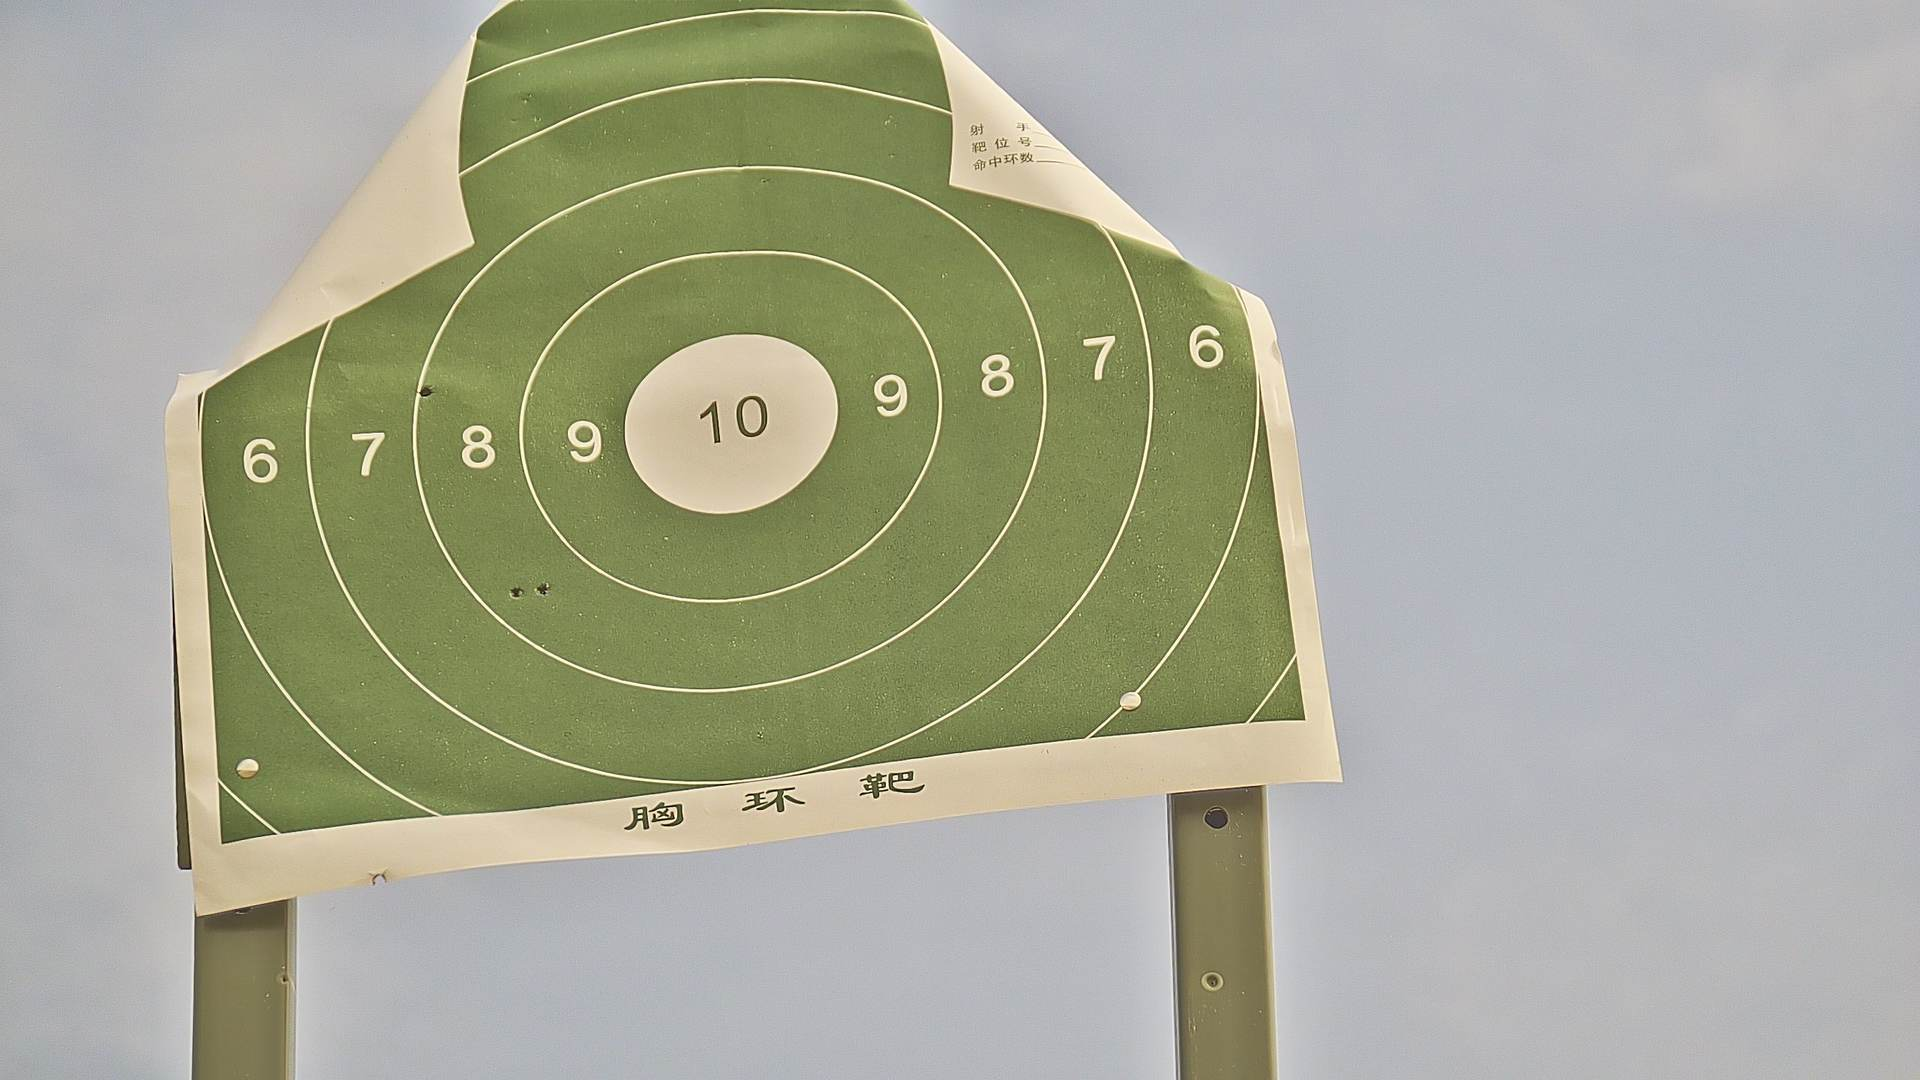hole: (418, 385, 433, 400), (535, 582, 550, 596), (509, 585, 524, 597)
kernel: (728, 415, 732, 421)
target: (193, 3, 1304, 852)
ten: (622, 328, 841, 520)
